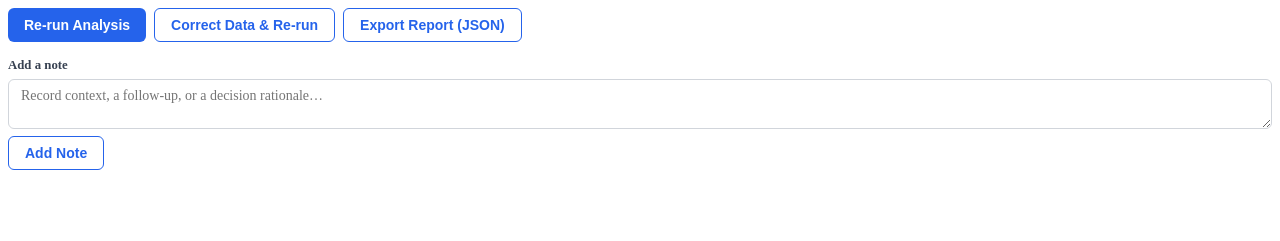
it: OperatorActions › stops polling and shows an error when the status check fails (not a 404)
This screenshot has width=1280, height=241.
Click the button with test id "rerun-btn" at (77, 25), box [8,8,146,42]
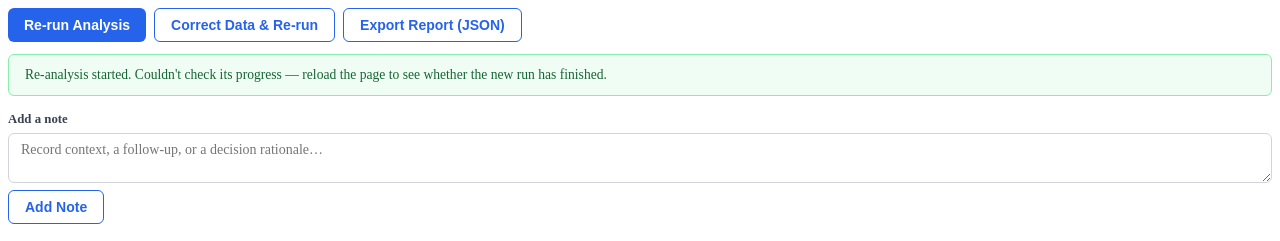
Check: the text with test id "new-run-banner" shows "Couldn't check", box [25,67,607,82]
